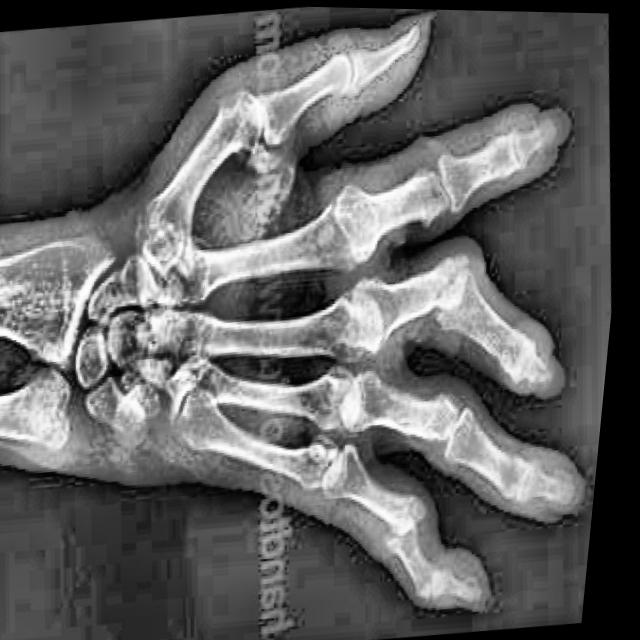fracture: (220, 96, 286, 185), (422, 247, 483, 318), (389, 492, 439, 547), (426, 384, 461, 437)
